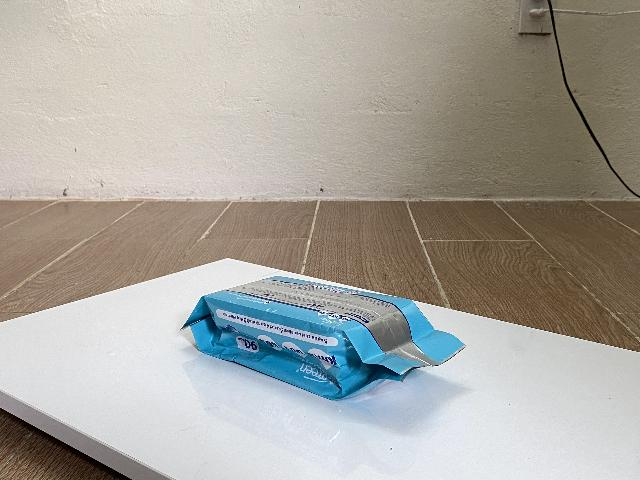Let-green_alcohol_wipes: (182, 277, 466, 401)
